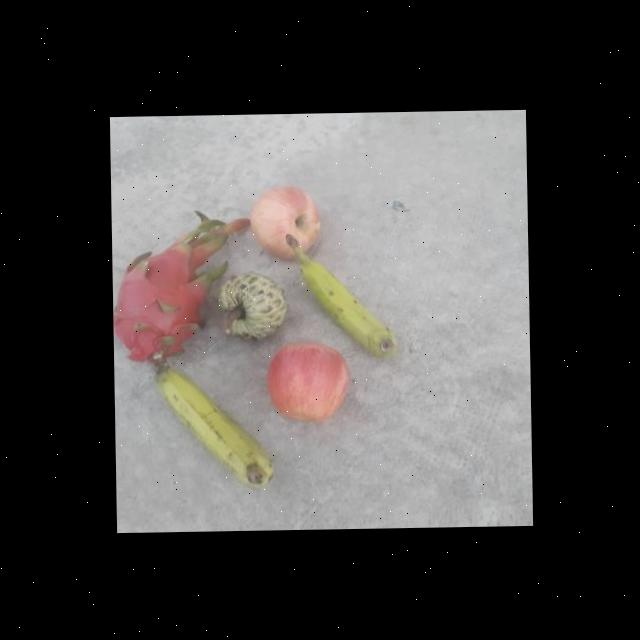Sakya fruit: (210, 266, 289, 347)
apple: (262, 338, 350, 426), (245, 181, 322, 260)
banana: (152, 359, 273, 487), (284, 230, 396, 358)
pitaya: (110, 236, 218, 364)
